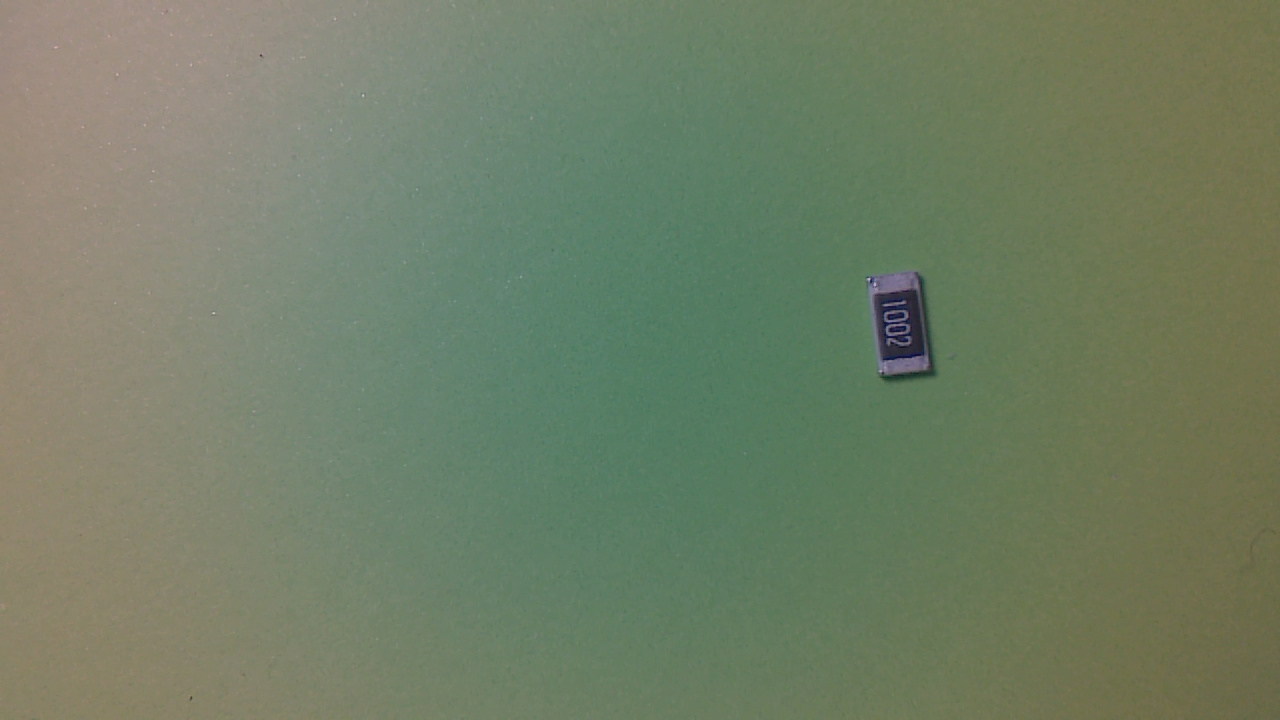Resistor: (864, 273, 944, 387)
